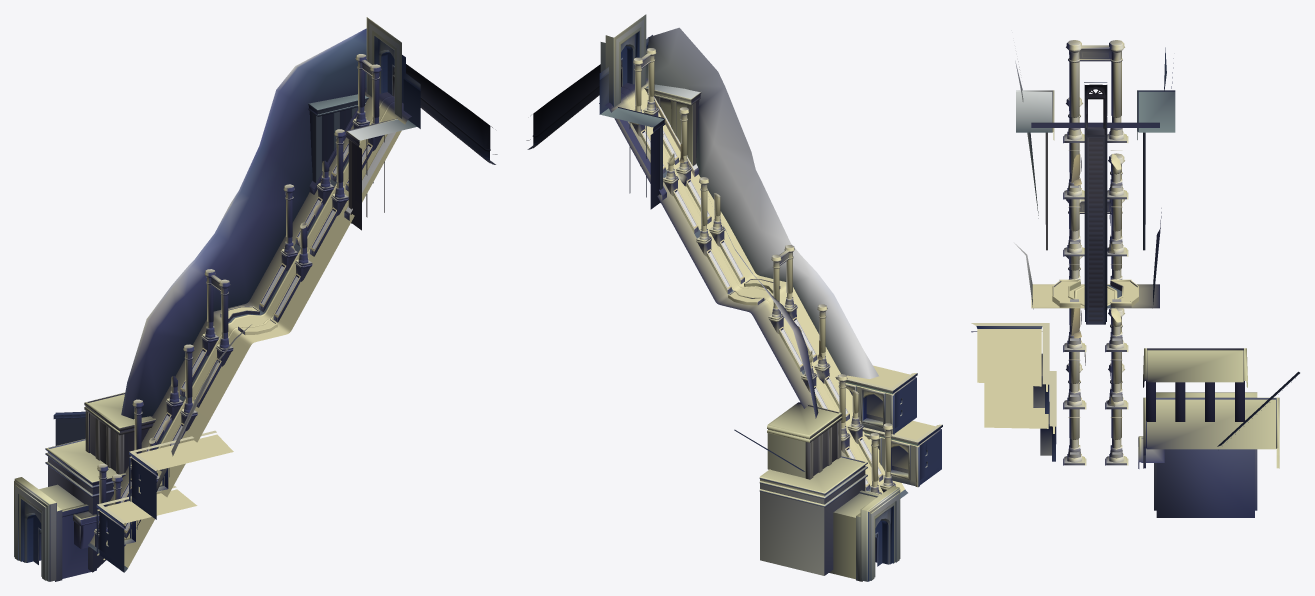
Rendered from 05Ascent.gltf.
3 views of the same model, side by side, from view 1: azimuth 30°, elevation 25°; view 2: azimuth 150°, elevation 25°; view 3: azimuth 270°, elevation 25° (orthographic). The views are drawn at different scales.
Visible parts, largest first — view 1: stg013_o32_Mesh_0010, stg013_o28_Mesh_0010, stg013_o10_Mesh_0018, stg013_o26_Mesh_0010, stg013_o10_Mesh_0023, stg013_o04_Mesh_0023, stg013_o10_Mesh_0019, stg013_o25_Mesh_0011, stg013_o10_Mesh_0021, stg013_o10_Mesh_0007, stg013_o03_Mesh_0021, stg013_o10_Mesh_0022 (+3 smaller); view 2: stg013_o32_Mesh_0010, stg013_o10_Mesh_0023, stg013_o10_Mesh_0018, stg013_o28_Mesh_0010, stg013_o26_Mesh_0010, stg013_o04_Mesh_0023, stg013_o10_Mesh_0019, stg013_o25_Mesh_0011, stg013_o10_Mesh_0021, stg013_o10_Mesh_0022, stg013_o10_Mesh_0007, stg013_o03_Mesh_0021 (+2 smaller); view 3: stg013_o26_Mesh_0010, stg013_o10_Mesh_0018, stg013_o25_Mesh_0011, stg013_o10_Mesh_0021, stg013_o10_Mesh_0019, stg013_o05_Mesh_0026, stg013_o28_Mesh_0010, stg013_o10_Mesh_0007, stg013_o04_Mesh_0023, stg013_o04_Mesh_0020, stg013_o10_Mesh_0022, stg013_o04_Mesh_0024 (+2 smaller).
Part boxes in pixels (bbox=[...]): stg013_o32_Mesh_0010: bbox=[121, 28, 366, 528]; stg013_o28_Mesh_0010: bbox=[39, 87, 411, 572]; stg013_o10_Mesh_0018: bbox=[14, 17, 420, 581]; stg013_o26_Mesh_0010: bbox=[49, 94, 416, 530]; stg013_o10_Mesh_0023: bbox=[33, 52, 420, 578]; stg013_o04_Mesh_0023: bbox=[16, 39, 394, 581]; stg013_o10_Mesh_0019: bbox=[24, 49, 420, 572]; stg013_o25_Mesh_0011: bbox=[95, 54, 382, 549]; stg013_o10_Mesh_0021: bbox=[14, 19, 400, 580]; stg013_o10_Mesh_0007: bbox=[15, 23, 399, 580]; stg013_o03_Mesh_0021: bbox=[106, 97, 394, 545]; stg013_o10_Mesh_0022: bbox=[83, 63, 372, 548]; stg013_o32_Mesh_0010: bbox=[646, 27, 878, 418]; stg013_o10_Mesh_0023: bbox=[599, 35, 941, 579]; stg013_o10_Mesh_0018: bbox=[599, 14, 942, 581]; stg013_o28_Mesh_0010: bbox=[599, 78, 907, 517]; stg013_o26_Mesh_0010: bbox=[600, 84, 934, 491]; stg013_o04_Mesh_0023: bbox=[621, 34, 908, 581]; stg013_o10_Mesh_0019: bbox=[599, 39, 941, 527]; stg013_o25_Mesh_0011: bbox=[632, 48, 891, 492]; stg013_o10_Mesh_0021: bbox=[615, 16, 942, 580]; stg013_o10_Mesh_0022: bbox=[641, 56, 915, 492]; stg013_o10_Mesh_0007: bbox=[616, 20, 899, 580]; stg013_o03_Mesh_0021: bbox=[621, 87, 882, 493]; stg013_o26_Mesh_0010: bbox=[977, 92, 1275, 449]; stg013_o10_Mesh_0018: bbox=[971, 45, 1299, 517]; stg013_o25_Mesh_0011: bbox=[1068, 40, 1123, 439]; stg013_o10_Mesh_0021: bbox=[971, 131, 1138, 463]; stg013_o10_Mesh_0019: bbox=[1052, 41, 1138, 465]; stg013_o05_Mesh_0026: bbox=[1088, 138, 1102, 324]; stg013_o28_Mesh_0010: bbox=[1031, 122, 1159, 308]; stg013_o10_Mesh_0007: bbox=[1033, 53, 1121, 455]; stg013_o04_Mesh_0023: bbox=[1064, 51, 1257, 462]; stg013_o04_Mesh_0020: bbox=[1084, 88, 1107, 321]; stg013_o10_Mesh_0022: bbox=[1068, 51, 1122, 458]; stg013_o04_Mesh_0024: bbox=[1086, 138, 1105, 324].
Bounding box in the file's own units: 178 × 198 × 81.94.
